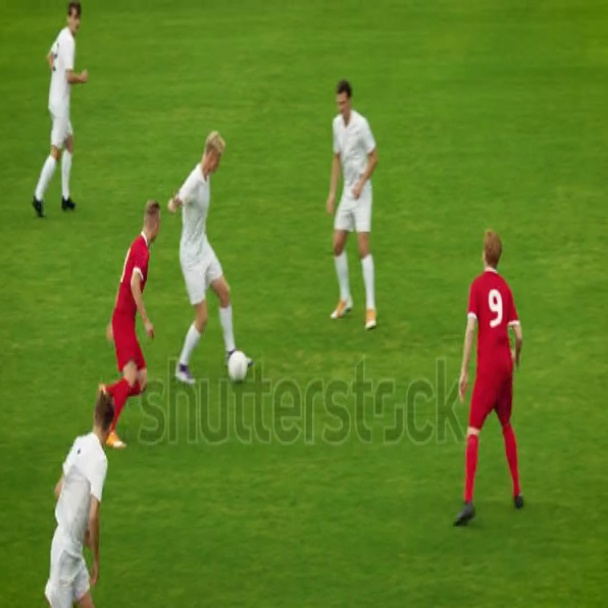ball: (222, 344, 252, 389)
